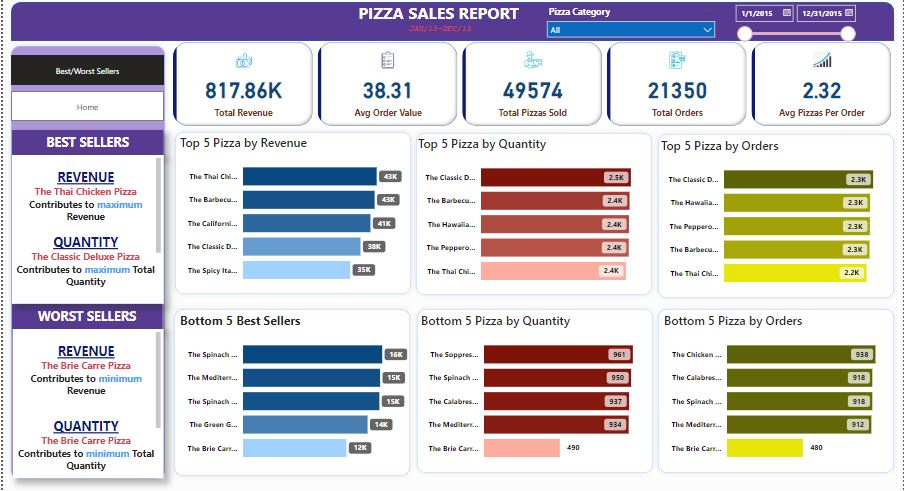

What the dashboard file says about the page in this screenshot:
{"tool":"powerbi","page":{"name":"Best/Worst Sellers","canvas":[1500,820],"ordinal":1},"visuals":[{"type":"cardVisual","fields":{"Data":["pizza_sales.Total Revenue","pizza_sales.Avg Order Value","pizza_sales.Total Pizzas Sold","pizza_sales.Total Orders","pizza_sales.Avg Pizzas Per Order"]},"box":[278.3,66.7,1208.3,150],"z":0},{"type":"shape","box":[14,4.7,1472.1,65.1],"z":1000},{"type":"textbox","box":[579.1,0,295.3,46.5],"z":2000},{"type":"textbox","box":[664.3,35.7,124.3,34.3],"z":3000},{"type":"shape","box":[278.3,213.3,410,286.7],"z":4000},{"type":"shape","box":[5,70,273.3,738.3],"z":5000},{"type":"textbox","box":[15,218.3,251.7,41.7],"z":6000},{"type":"textbox","box":[15,508.3,250,41.7],"z":7000},{"type":"textbox","box":[15,260,253.3,248.3],"z":8000},{"type":"textbox","box":[17.1,550,251.4,248.6],"z":9000},{"type":"slicer","fields":{"Values":["pizza_sales.pizza_category"]},"box":[897.1,4.3,300,65.7],"z":10000},{"type":"slicer","fields":{"Values":["pizza_sales.order_date"]},"box":[1208.6,0,221.4,80],"z":11000},{"type":"shape","box":[680,215,410,286.7],"z":12000},{"type":"shape","box":[1083.3,216.7,410,290],"z":13000},{"type":"shape","box":[276.7,508.3,410,295],"z":14000},{"type":"shape","box":[681.7,508.3,410,290],"z":15000},{"type":"shape","box":[1083.3,508.3,410,290],"z":16000},{"type":"barChart","title":"Top 5 Pizza by Revenue","fields":{"Category":["pizza_sales.pizza_name"],"Y":["pizza_sales.Total Revenue"]},"box":[290,225,390,263.3],"z":17000},{"type":"barChart","title":"Bottom 5 Best Sellers","fields":{"Category":["pizza_sales.pizza_name"],"Y":["pizza_sales.Total Revenue"]},"box":[290,521.7,390,263.3],"z":18000},{"type":"barChart","title":"Top 5 Pizza by Quantity","fields":{"Category":["pizza_sales.pizza_name"],"Y":["pizza_sales.Total Pizzas Sold"]},"box":[686.7,226.7,390,263.3],"z":19000},{"type":"barChart","title":"Bottom 5 Pizza by Quantity","fields":{"Category":["pizza_sales.pizza_name"],"Y":["pizza_sales.Total Pizzas Sold"]},"box":[691.7,521.7,390,263.3],"z":20000},{"type":"barChart","title":"Top 5 Pizza by Orders","fields":{"Category":["pizza_sales.pizza_name"],"Y":["pizza_sales.Total Orders"]},"box":[1091.7,230,390,263.3],"z":21000},{"type":"barChart","title":"Bottom 5 Pizza by Orders","fields":{"Category":["pizza_sales.pizza_name"],"Y":["pizza_sales.Total Orders"]},"box":[1096.7,521.7,390,263.3],"z":22000},{"type":"pageNavigator","box":[13.8,93.8,255,50],"z":23000},{"type":"pageNavigator","box":[13.8,153.8,255,50],"z":24000}]}

Visuals, with their boxes in screenshot pixels (x1, y1, x2, y2), scaled from the page's 1500x820 canvas onto the 904x491 screenshot:
cardVisual - pizza_sales.Total Revenue x pizza_sales.Avg Order Value: 168/40/896/130
shape: 8/3/896/42
textbox: 349/0/527/28
textbox: 400/21/475/42
shape: 168/128/415/299
shape: 3/42/168/484
textbox: 9/131/161/156
textbox: 9/304/160/329
textbox: 9/156/162/304
textbox: 10/329/162/478
slicer - pizza_sales.pizza_category: 541/3/721/42
slicer - pizza_sales.order_date: 728/0/862/48
shape: 410/129/657/300
shape: 653/130/900/303
shape: 167/304/414/481
shape: 411/304/658/478
shape: 653/304/900/478
"Top 5 Pizza by Revenue" barChart: 175/135/410/292
"Bottom 5 Best Sellers" barChart: 175/312/410/470
"Top 5 Pizza by Quantity" barChart: 414/136/649/293
"Bottom 5 Pizza by Quantity" barChart: 417/312/652/470
"Top 5 Pizza by Orders" barChart: 658/138/893/295
"Bottom 5 Pizza by Orders" barChart: 661/312/896/470
pageNavigator: 8/56/162/86
pageNavigator: 8/92/162/122
